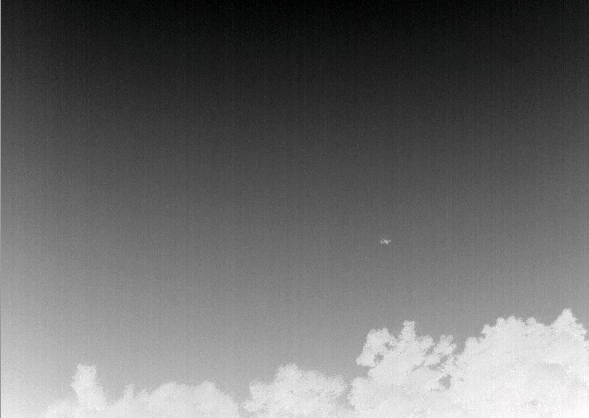dim target: (378, 237, 391, 245)
